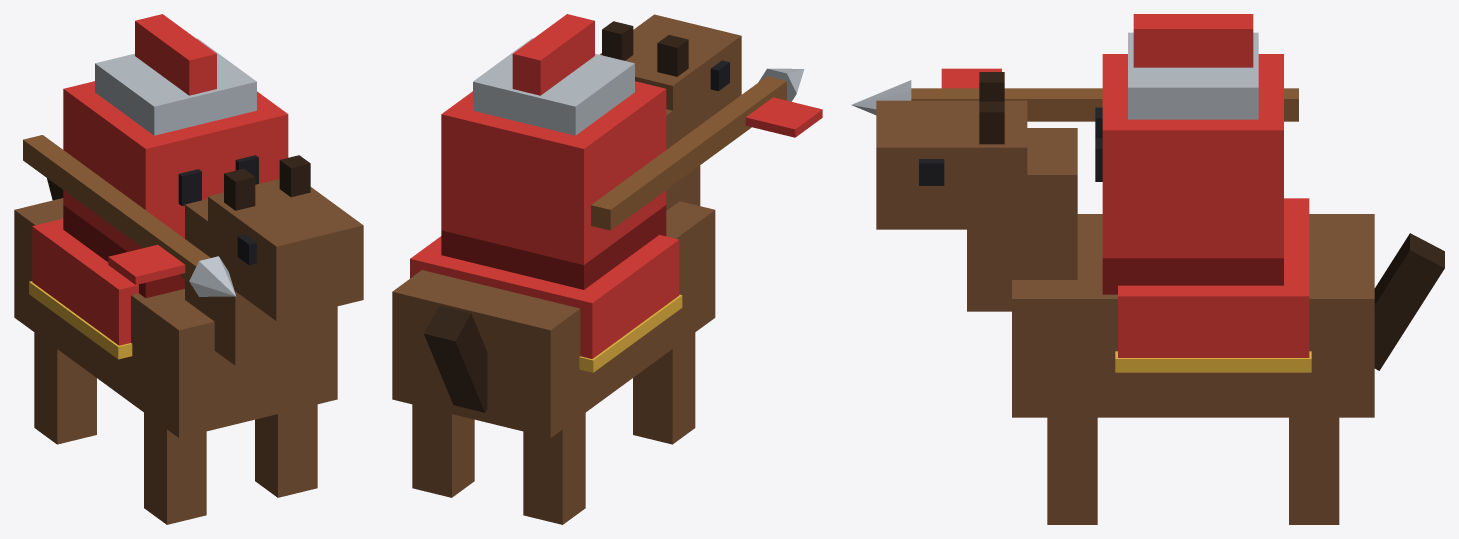
The model's file is cavalry_red.fbx.
3 renders of one model, left to right at view 1: azimuth 30°, elevation 25°; view 2: azimuth 150°, elevation 25°; view 3: azimuth 270°, elevation 25°, orthographic. The views are drawn at different scales.
Visible parts, largest first — view 1: cavalry_red; view 2: cavalry_red; view 3: cavalry_red.
Boxes of the visible parts, x1,y1,x2,y2 form: cavalry_red: [14, 14, 363, 524]; cavalry_red: [392, 14, 822, 524]; cavalry_red: [851, 14, 1444, 524].
Bounding box in the file's own units: 0.625 × 1.01 × 1.18.
